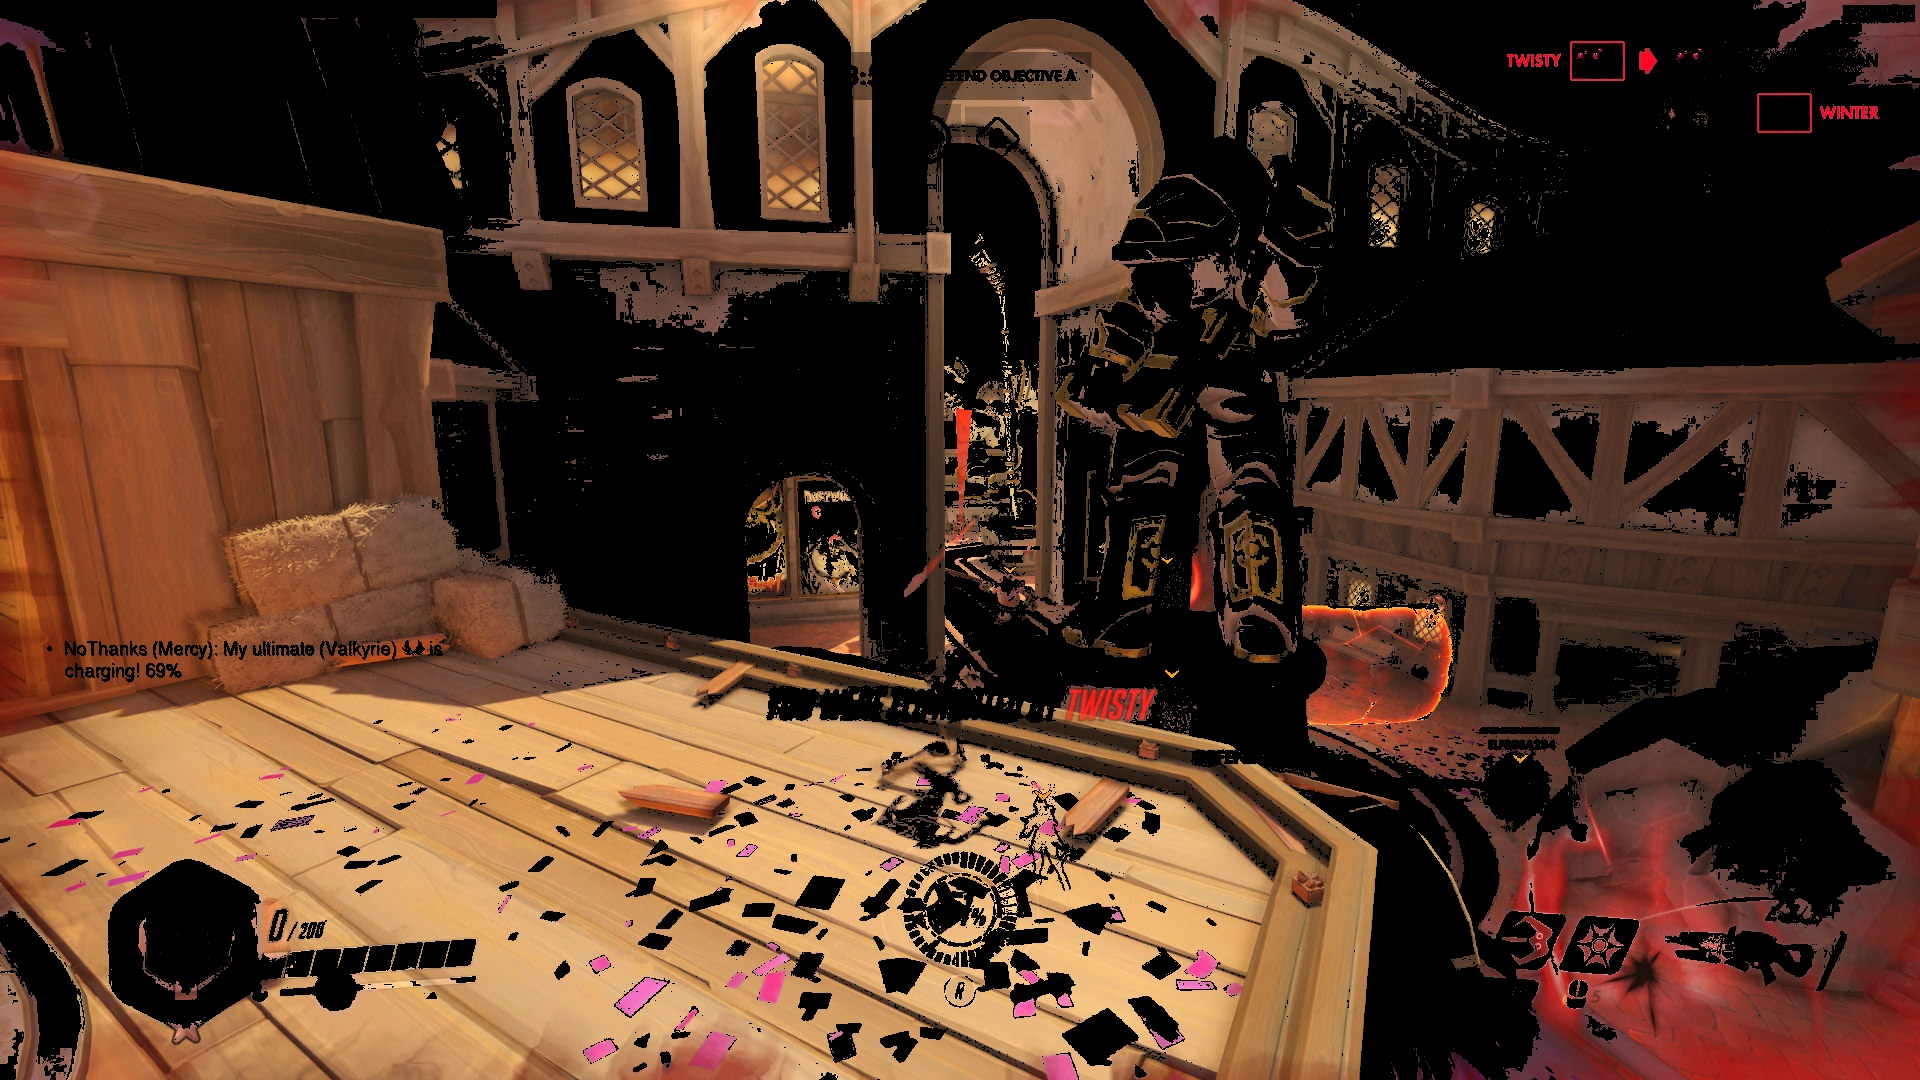widowmaker: (952, 517, 967, 541)
